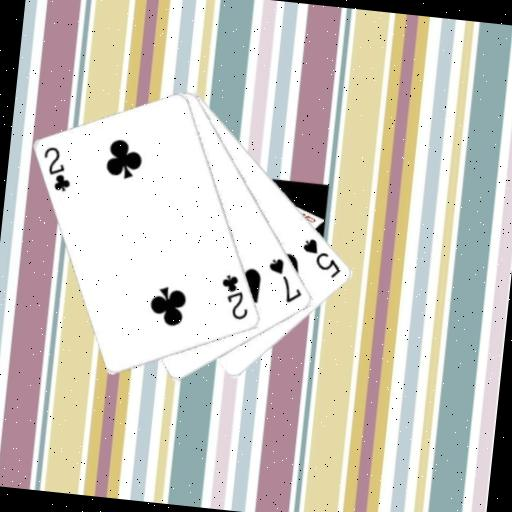2C: (215, 271, 254, 323), (38, 143, 76, 195)
5S: (297, 234, 346, 281)
7S: (262, 253, 308, 306)
